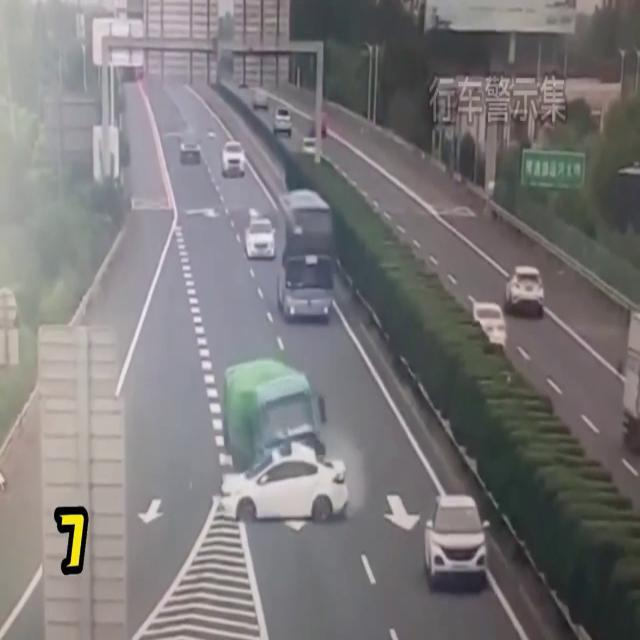multiple_accident: (163, 325, 368, 542)
normal: (230, 178, 363, 332), (415, 470, 483, 583)
